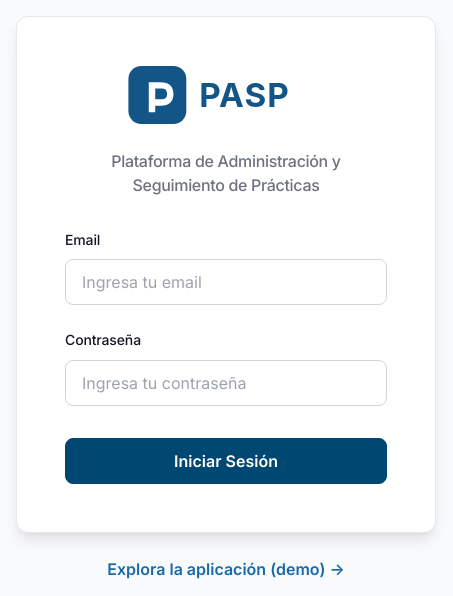
Test: Login › permite mostrar y volver a ocultar la contraseña
Type "Password123" into the password field labelled "Contraseña" at [226, 383], box [65,360,387,406]
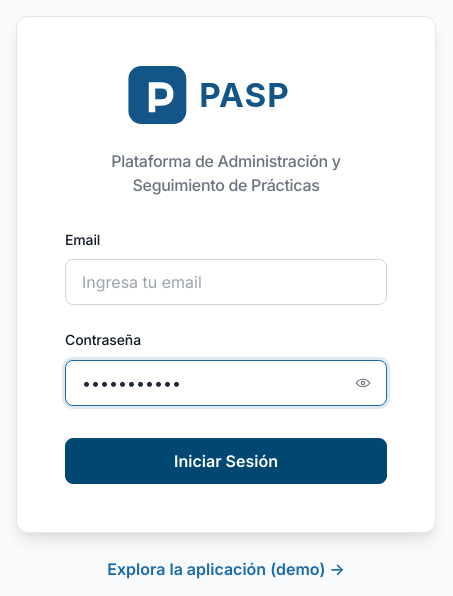
Click the button named "Mostrar contraseña" at [363, 383], box [349,369,377,397]
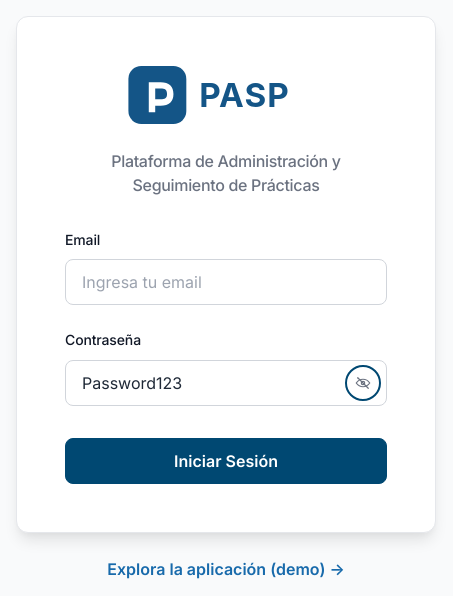
Result: the field labelled "Contraseña" shows its text at [65,360,387,406]
Click the button named "Ocultar contraseña" at [363, 383], box [349,369,377,397]
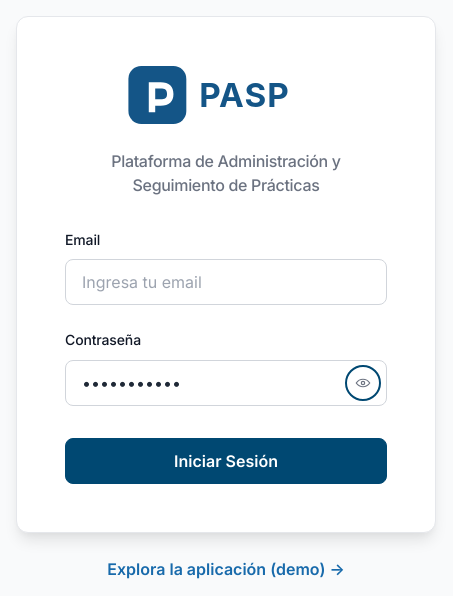
Result: the password field labelled "Contraseña" hides its text at [65,360,387,406]
